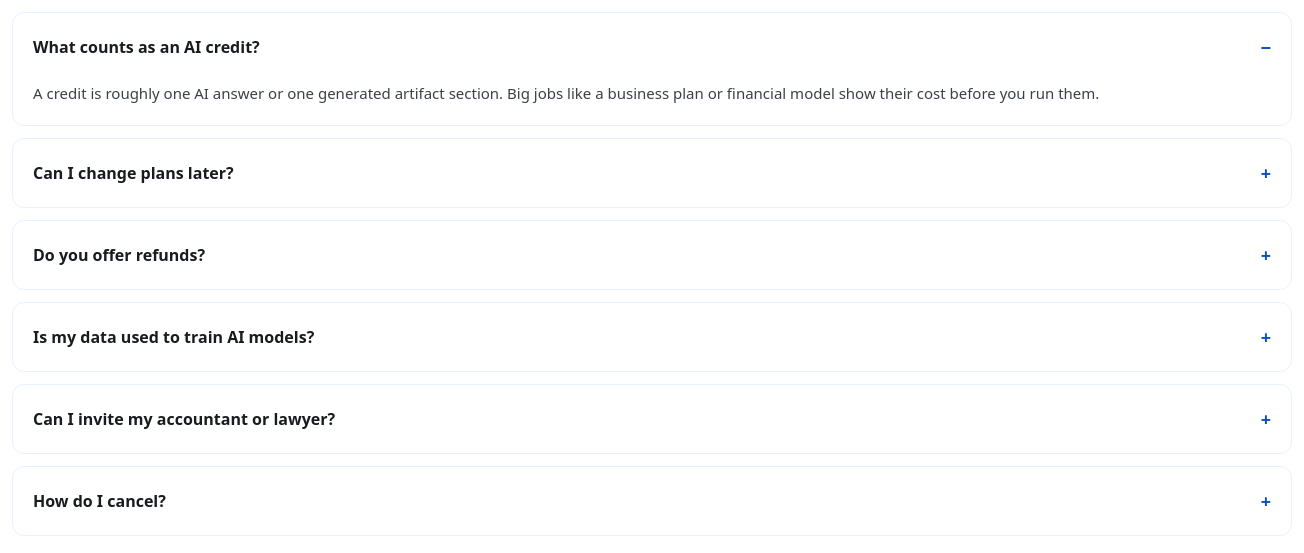
FaqAccordion › collapses an open item when clicked again
Click the button "What counts as an AI credit? −" at (146, 47), box top-left (13, 13), bottom-right (1291, 81)
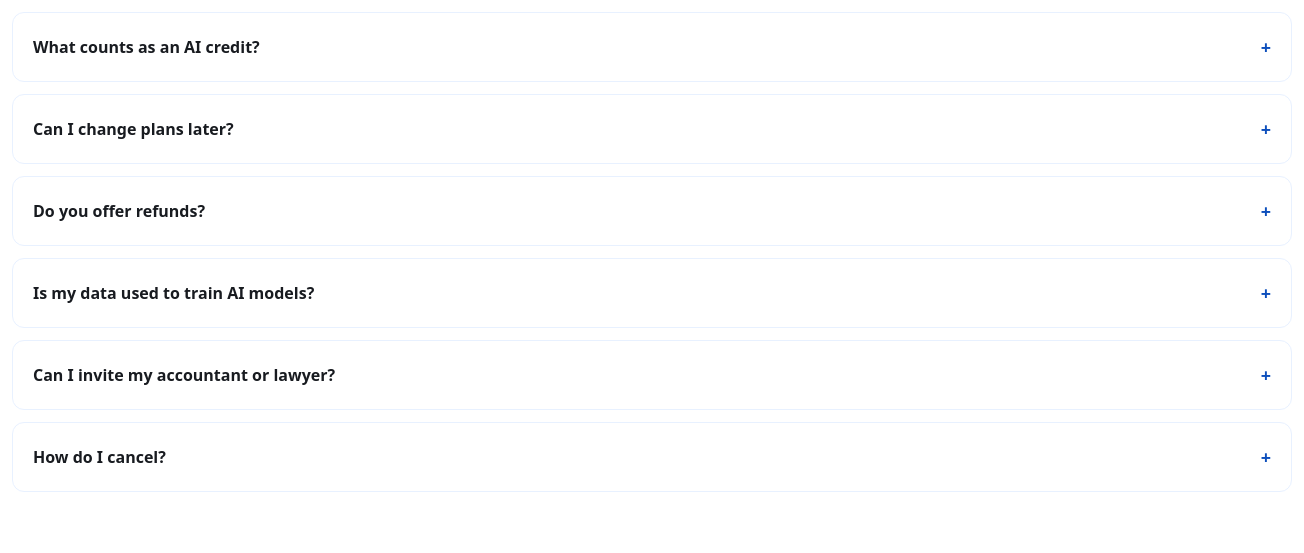
Now the text "A credit is roughly one AI answer or one generated artifact section. Big jobs like a business plan or financial model sh" is gone
